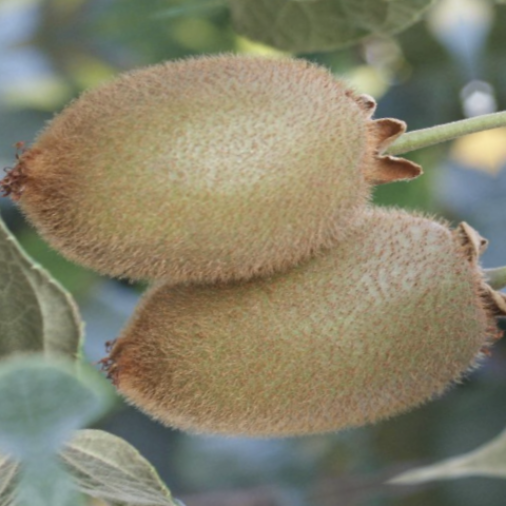kiwi: (0, 13, 445, 328), (82, 167, 506, 497)
